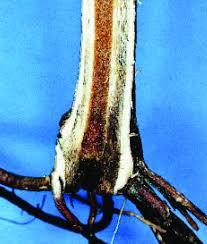Verticillium wilt: (0, 0, 120, 243)
